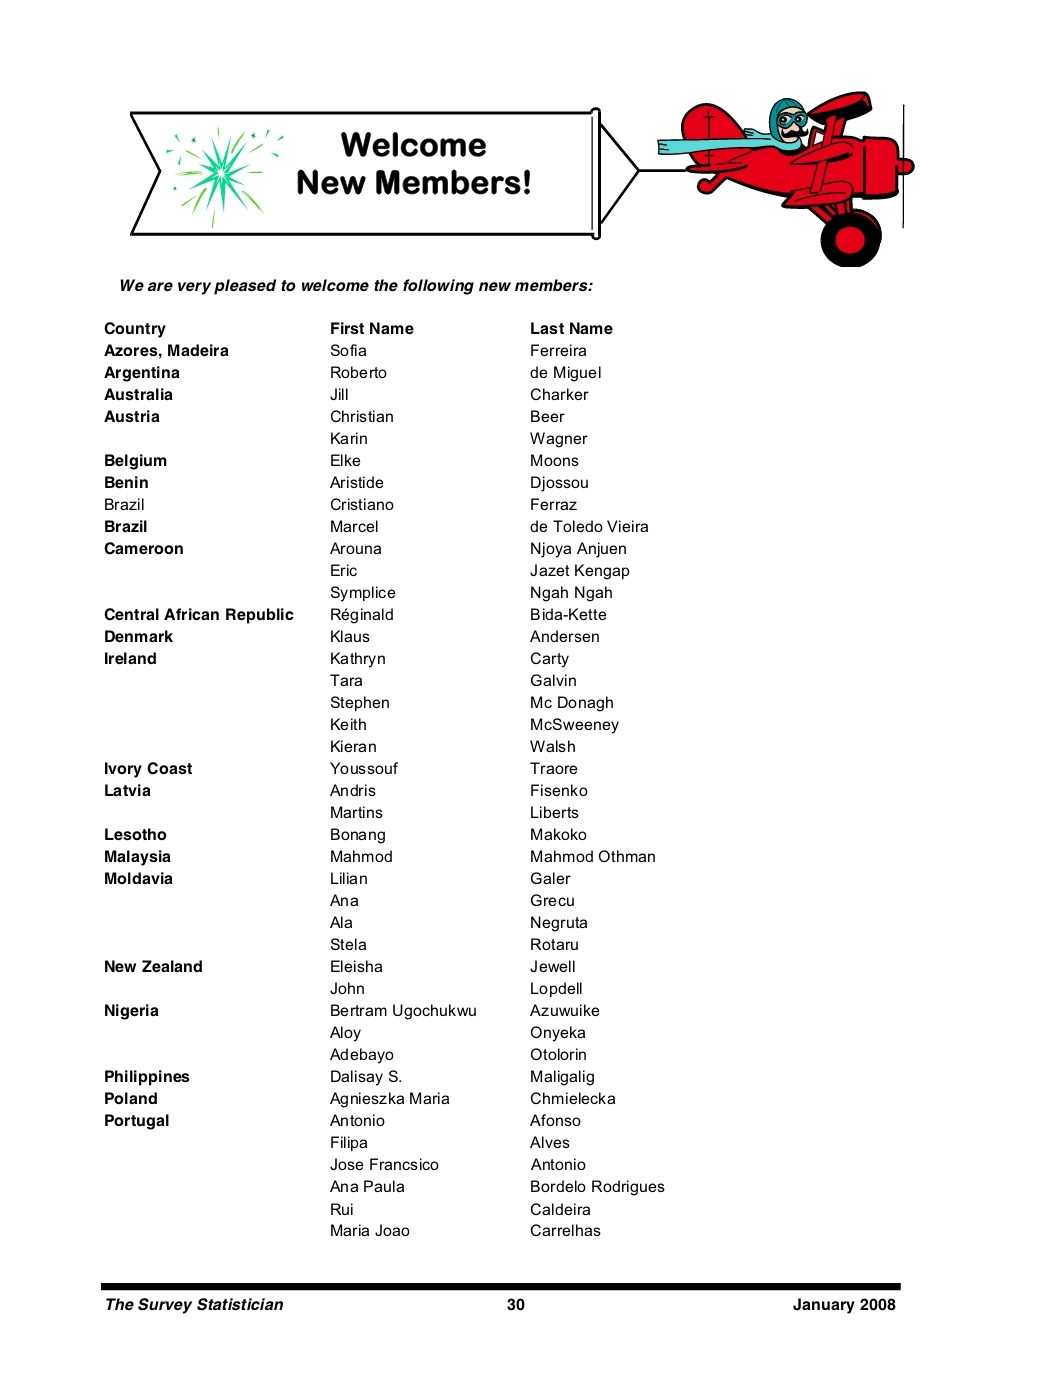Table: (104, 322, 664, 1236)
figure: (130, 90, 914, 267)
